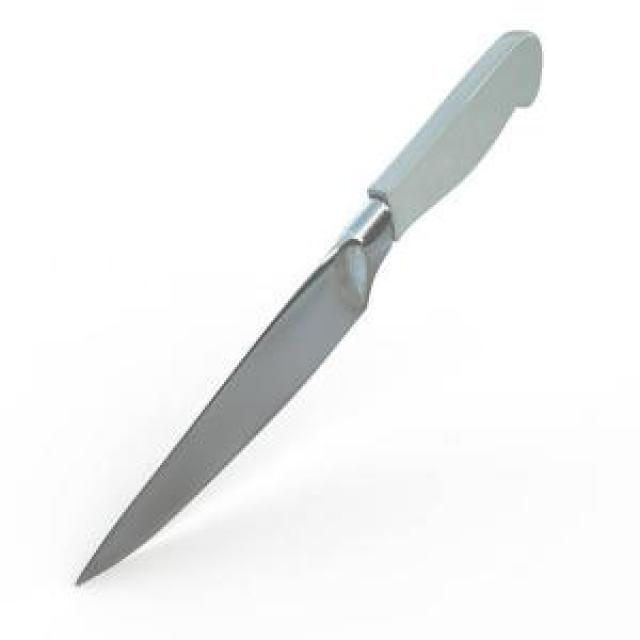knife: (75, 28, 546, 591)
